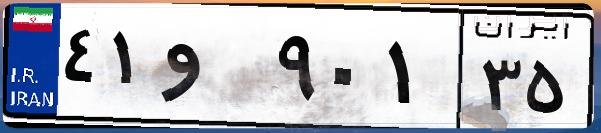0: (330, 28, 385, 110)
1: (385, 28, 445, 110), (110, 28, 158, 98)
3: (475, 38, 525, 113)
4: (57, 26, 110, 100)
5: (525, 38, 570, 115)
9: (270, 28, 330, 110)
و: (158, 20, 270, 120)
